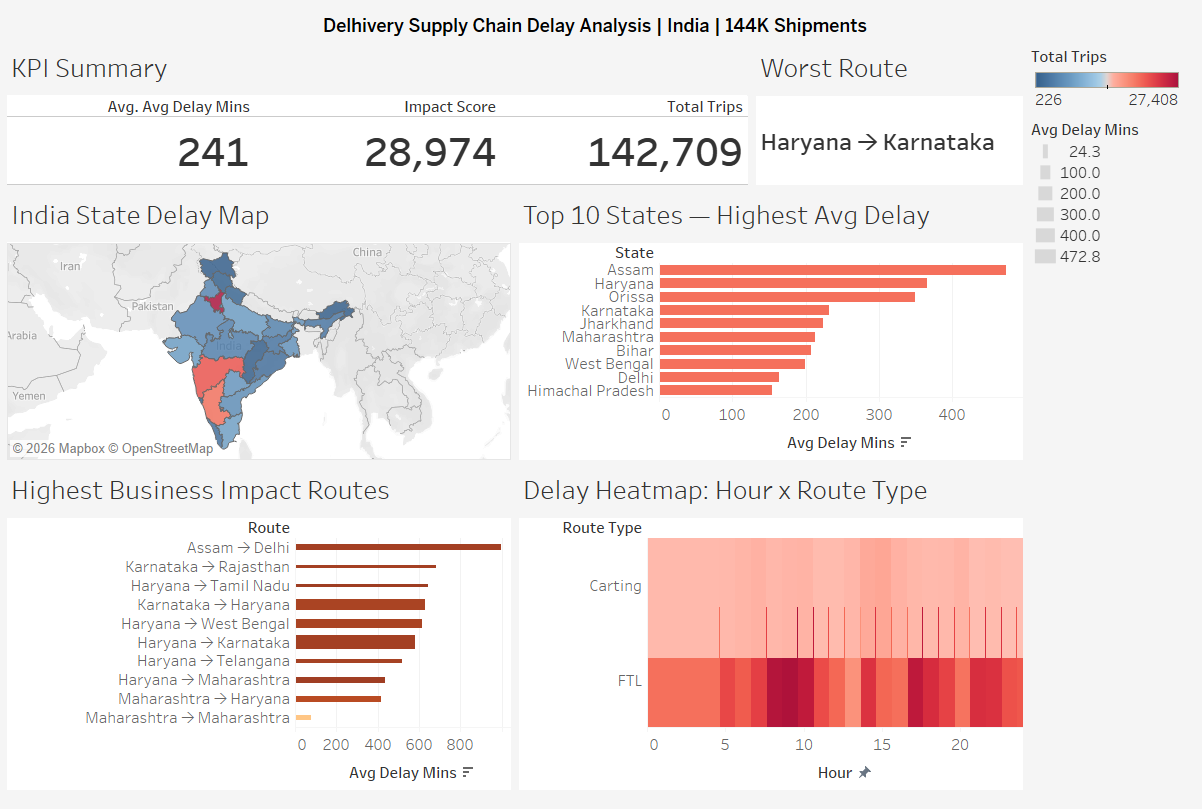

This screenshot's page, from the dashboard's own definition file:
{"tool":"tableau","page":{"name":"Dashboard 1","canvas":[1200,800],"ordinal":0},"visuals":[{"type":"text","box":[8,8,1184,32]},{"type":"worksheet","title":"KPI Summary","mark":"Automatic","box":[8,40,749,146.8]},{"type":"worksheet","title":"Worst Route","mark":"Automatic","box":[757,40,275,146.8]},{"type":"legend","title":"Avg Delivery Delay by State (Minutes)","param":"[federated.0sk5i5b0zdroqp10uw1jx1upjjv5].[sum:total_trips:qk]","box":[1032,40,160,73]},{"type":"legend","title":"Avg Delivery Delay by State (Minutes)","param":"[federated.0sk5i5b0zdroqp10uw1jx1upjjv5].[sum:avg_delay_mins:qk]","box":[1032,113,160,156]},{"type":"worksheet","title":"Avg Delivery Delay by State (Minutes)","mark":"Multipolygon","box":[8,186.8,512,275.3]},{"type":"worksheet","title":"Top 10 States — Highest Avg Delay","mark":"Automatic","rows":["state"],"cols":["avg_delay_mins"],"box":[520,186.8,512,275.3]},{"type":"worksheet","title":"Highest Business Impact Routes","mark":"Automatic","rows":["route"],"cols":["avg_delay_mins"],"box":[8,462,512,330]},{"type":"worksheet","title":"Delay Heatmap: Hour x Route Type","mark":"Square","rows":["route_type"],"cols":["hour"],"box":[520,462,512,330]}]}

Visuals, with their boxes in screenshot pixels (x1, y1, x2, y2), scaled from the page's 1200x800 canvas onto the 1202x809 screenshot:
text: x1=8 y1=8 x2=1194 y2=40
"KPI Summary" worksheet: x1=8 y1=40 x2=758 y2=189
"Worst Route" worksheet: x1=758 y1=40 x2=1034 y2=189
"Avg Delivery Delay by State (Minutes)" legend: x1=1034 y1=40 x2=1194 y2=114
"Avg Delivery Delay by State (Minutes)" legend: x1=1034 y1=114 x2=1194 y2=272
"Avg Delivery Delay by State (Minutes)" worksheet (Multipolygon marks): x1=8 y1=189 x2=521 y2=467
"Top 10 States — Highest Avg Delay" worksheet: x1=521 y1=189 x2=1034 y2=467
"Highest Business Impact Routes" worksheet: x1=8 y1=467 x2=521 y2=801
"Delay Heatmap: Hour x Route Type" worksheet (Square marks): x1=521 y1=467 x2=1034 y2=801
